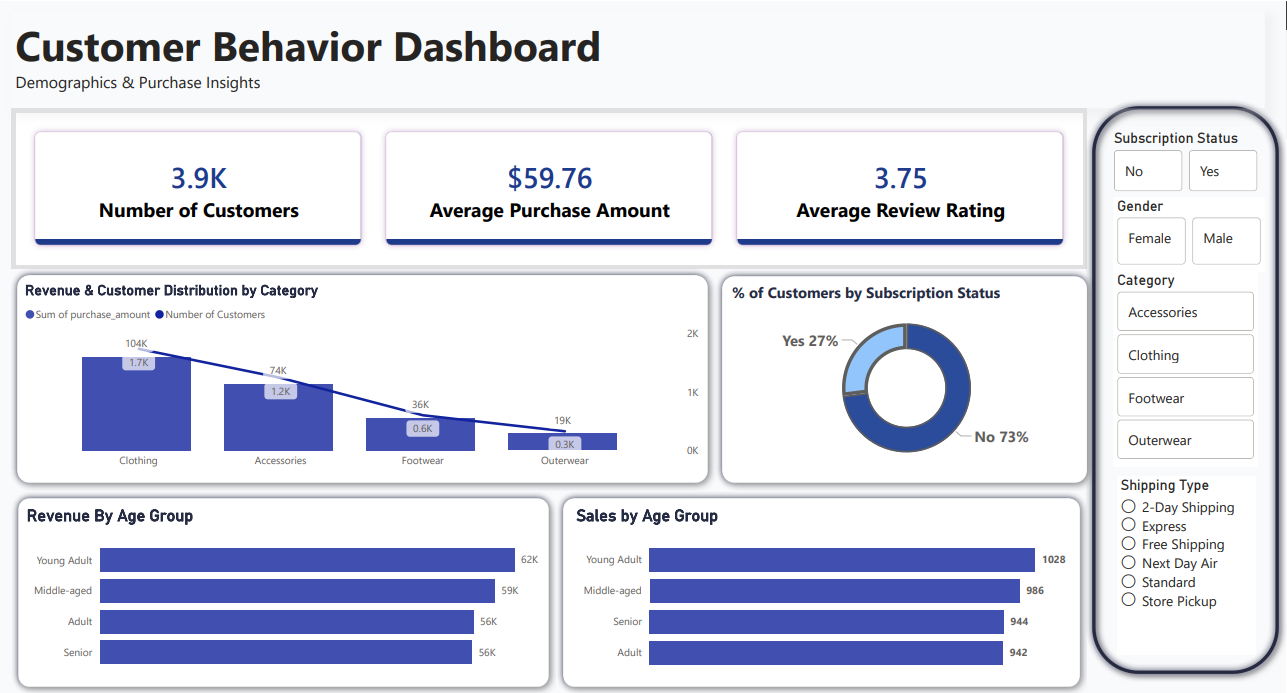

This screenshot's page, from the dashboard's own definition file:
{"tool":"powerbi","page":{"name":"Page 1","canvas":[1510,820],"ordinal":0},"visuals":[{"type":"cardVisual","fields":{"Data":["public customer.Number of Customers","public customer.Average Purchase Amount","public customer.Average Review Rating"]},"box":[13.7,125,1262.7,188.2],"z":0},{"type":"textbox","box":[13.7,11,872.5,123.7],"z":1000},{"type":"shape","box":[12.4,311.9,827.1,261.1],"z":2000},{"type":"shape","box":[1273.7,114,236.3,682.9],"z":3000},{"type":"shape","box":[839.5,313.3,445.2,259.7],"z":4000},{"type":"lineClusteredColumnComboChart","title":"Revenue & Customer Distribution by Category","fields":{"Category":["public customer.category"],"Y":["Sum(public customer.purchase_amount)"],"Y2":["public customer.Number of Customers"]},"box":[24.7,328.4,801,228.1],"z":6000},{"type":"donutChart","title":"%  of Customers by Subscription Status","fields":{"Category":["public customer.subscription_status"],"Y":["CountNonNull(public customer.customer_id)"]},"box":[854.6,328.4,419.1,228.1],"z":8000},{"type":"advancedSlicerVisual","fields":{"Values":["public customer.subscription_status"]},"box":[1302.6,149.8,180,79.7],"z":9000},{"type":"advancedSlicerVisual","fields":{"Values":["public customer.gender"]},"box":[1306.7,229.5,178.6,86.6],"z":10000},{"type":"advancedSlicerVisual","title":"Category","fields":{"Values":["public customer.category"]},"box":[1306.7,316,170.4,229.5],"z":11000},{"type":"listSlicer","fields":{"Values":["public customer.shipping_type"]},"box":[1310.8,556.5,163.5,208.8],"z":12000},{"type":"shape","box":[13.7,574.3,638.9,237.7],"z":13000},{"type":"clusteredBarChart","title":"Revenue By Age Group","fields":{"Y":["Sum(public customer.purchase_amount)"],"Category":["public customer.age_group"]},"box":[27.5,590.8,611.4,206.1],"z":14000},{"type":"shape","box":[652.7,574.3,623.8,237.7],"z":15000},{"type":"clusteredBarChart","title":"Sales by Age Group","fields":{"Y":["CountNonNull(public customer.customer_id)"],"Category":["public customer.age_group"]},"box":[671.9,590.8,586.7,206.1],"z":16000},{"type":"shape","box":[2.7,114,1471.6,114],"z":16001}]}

Visuals, with their boxes in screenshot pixels (x1, y1, x2, y2), scaled from the page's 1510x820 canvas onto the 1287x693 screenshot:
cardVisual - public customer.Number of Customers x public customer.Average Purchase Amount: bbox=[12, 106, 1088, 265]
textbox: bbox=[12, 9, 755, 114]
shape: bbox=[11, 264, 716, 484]
shape: bbox=[1086, 96, 1286, 673]
shape: bbox=[716, 265, 1095, 484]
"Revenue & Customer Distribution by Category" lineClusteredColumnComboChart: bbox=[21, 278, 704, 470]
"%  of Customers by Subscription Status" donutChart: bbox=[728, 278, 1086, 470]
advancedSlicerVisual - public customer.subscription_status: bbox=[1110, 127, 1264, 194]
advancedSlicerVisual - public customer.gender: bbox=[1114, 194, 1266, 267]
"Category" advancedSlicerVisual: bbox=[1114, 267, 1259, 461]
listSlicer - public customer.shipping_type: bbox=[1117, 470, 1257, 647]
shape: bbox=[12, 485, 556, 686]
"Revenue By Age Group" clusteredBarChart: bbox=[23, 499, 545, 673]
shape: bbox=[556, 485, 1088, 686]
"Sales by Age Group" clusteredBarChart: bbox=[573, 499, 1073, 673]
shape: bbox=[2, 96, 1257, 193]
